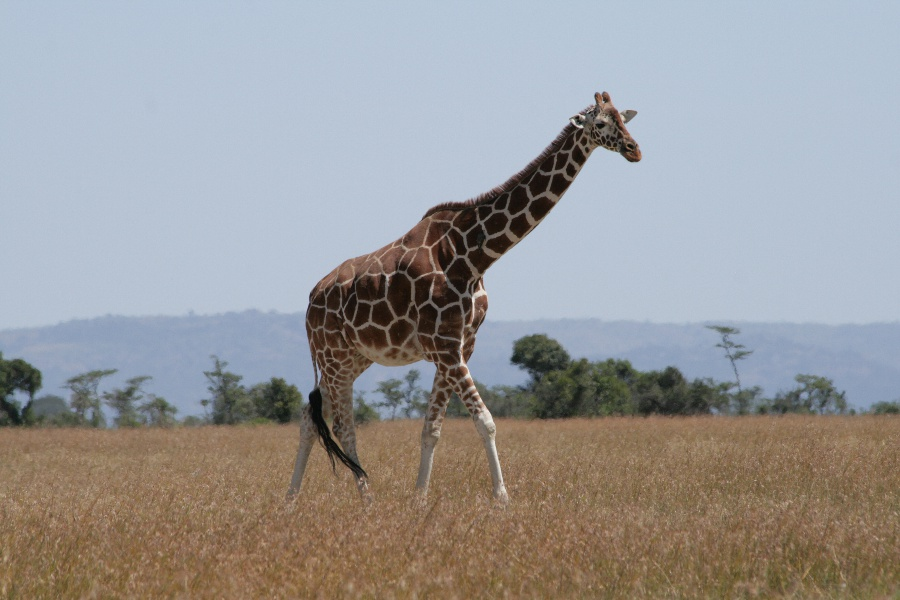giraffe: (269, 79, 651, 501)
